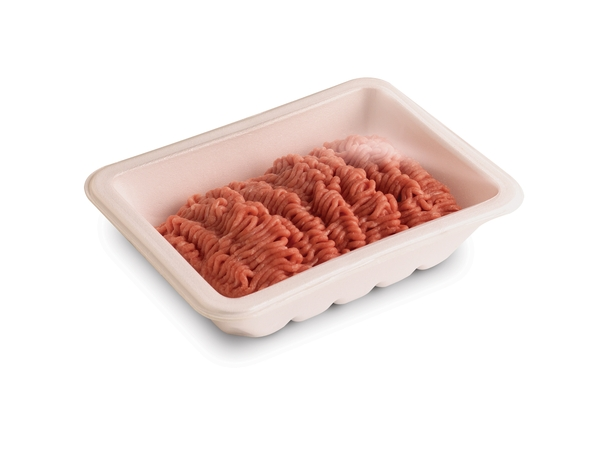ground_beef: (141, 126, 440, 274)
